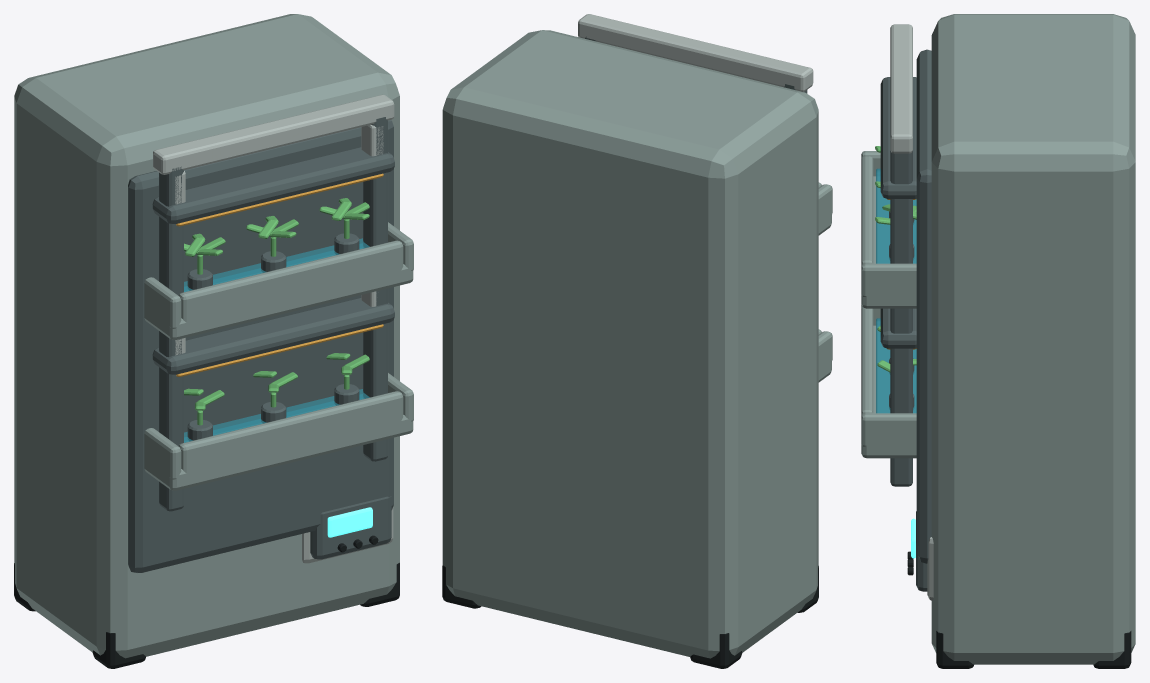
Rendered from 14_compact_autonomous_module.glb.
3 views of the same model, side by side, from view 1: azimuth 30°, elevation 25°; view 2: azimuth 150°, elevation 25°; view 3: azimuth 270°, elevation 25° (orthographic). The views are drawn at different scales.
Parts seen in each view (by area): view 1: 14_compact_autonomous_module_Body, 14_compact_autonomous_module_Front_Recess, 14_compact_autonomous_module_Tray_2_Tray_Wall_Front, 14_compact_autonomous_module_Tray_1_Tray_Wall_Front, 14_compact_autonomous_module_Light_2_Light_Housing, 14_compact_autonomous_module_Light_1_Light_Housing, 14_compact_autonomous_module_Light_2_Support_Top_Beam, 14_compact_autonomous_module_Tray_1_Tray_Bottom, 14_compact_autonomous_module_Tray_2_Tray_Bottom, 14_compact_autonomous_module_Control_Housing, 14_compact_autonomous_module_Light_1_Support_Post_-1, 14_compact_autonomous_module_Light_2_Support_Post_-1 (+11 smaller); view 2: 14_compact_autonomous_module_Body, 14_compact_autonomous_module_Light_2_Support_Top_Beam, 14_compact_autonomous_module_Foot_-1_1; view 3: 14_compact_autonomous_module_Body, 14_compact_autonomous_module_Front_Recess, 14_compact_autonomous_module_Light_2_Support_Top_Beam, 14_compact_autonomous_module_Light_1_Support_Post_1, 14_compact_autonomous_module_Light_2_Support_Post_1, 14_compact_autonomous_module_Light_2_Light_Housing, 14_compact_autonomous_module_Tray_2_Tray_Wall_Right, 14_compact_autonomous_module_Tray_1_Tray_Wall_Right, 14_compact_autonomous_module_Tray_2_Tray_Wall_Front, 14_compact_autonomous_module_Tray_1_Tray_Wall_Front, 14_compact_autonomous_module_Tray_1_Water_Surface, 14_compact_autonomous_module_Tray_2_Water_Surface (+6 smaller).
Boxes of the visible parts, left/top/right/bottom form: 14_compact_autonomous_module_Body: left=14, top=14, right=399, bottom=658; 14_compact_autonomous_module_Front_Recess: left=128, top=120, right=393, bottom=572; 14_compact_autonomous_module_Tray_2_Tray_Wall_Front: left=178, top=240, right=403, bottom=324; 14_compact_autonomous_module_Tray_1_Tray_Wall_Front: left=178, top=391, right=403, bottom=474; 14_compact_autonomous_module_Light_2_Light_Housing: left=152, top=147, right=394, bottom=224; 14_compact_autonomous_module_Light_1_Light_Housing: left=152, top=298, right=394, bottom=374; 14_compact_autonomous_module_Light_2_Support_Top_Beam: left=153, top=94, right=394, bottom=174; 14_compact_autonomous_module_Tray_1_Tray_Bottom: left=144, top=415, right=413, bottom=490; 14_compact_autonomous_module_Tray_2_Tray_Bottom: left=144, top=264, right=413, bottom=339; 14_compact_autonomous_module_Control_Housing: left=310, top=496, right=391, bottom=559; 14_compact_autonomous_module_Light_1_Support_Post_-1: left=159, top=331, right=183, bottom=511; 14_compact_autonomous_module_Light_2_Support_Post_-1: left=159, top=166, right=183, bottom=357; 14_compact_autonomous_module_Body: left=442, top=30, right=818, bottom=658; 14_compact_autonomous_module_Light_2_Support_Top_Beam: left=578, top=14, right=813, bottom=91; 14_compact_autonomous_module_Foot_-1_1: left=690, top=633, right=742, bottom=668; 14_compact_autonomous_module_Body: left=931, top=14, right=1135, bottom=664; 14_compact_autonomous_module_Front_Recess: left=916, top=49, right=931, bottom=563; 14_compact_autonomous_module_Light_2_Support_Top_Beam: left=890, top=24, right=912, bottom=153; 14_compact_autonomous_module_Light_1_Support_Post_1: left=890, top=308, right=912, bottom=486; 14_compact_autonomous_module_Light_2_Support_Post_1: left=890, top=150, right=912, bottom=332; 14_compact_autonomous_module_Light_2_Light_Housing: left=880, top=77, right=916, bottom=198; 14_compact_autonomous_module_Tray_2_Tray_Wall_Right: left=861, top=263, right=916, bottom=296; 14_compact_autonomous_module_Tray_1_Tray_Wall_Right: left=861, top=413, right=916, bottom=446; 14_compact_autonomous_module_Tray_2_Tray_Wall_Front: left=861, top=156, right=873, bottom=266; 14_compact_autonomous_module_Tray_1_Tray_Wall_Front: left=861, top=307, right=873, bottom=416; 14_compact_autonomous_module_Tray_1_Water_Surface: left=876, top=318, right=916, bottom=413; 14_compact_autonomous_module_Tray_2_Water_Surface: left=876, top=168, right=916, bottom=263.
Bounding box in the file's own units: 1.15 × 1.92 × 0.915.
